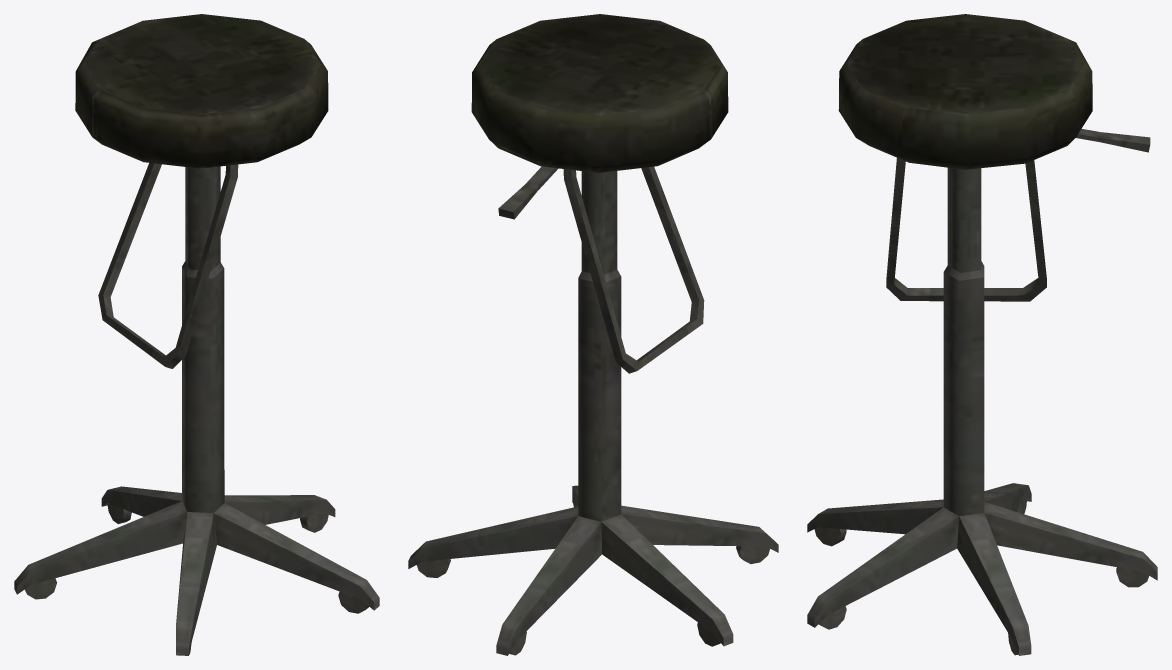
Rendered from chair_stool01a.glb.
3 views of the same model, side by side, from view 1: azimuth 30°, elevation 25°; view 2: azimuth 150°, elevation 25°; view 3: azimuth 270°, elevation 25° (orthographic).
Visible parts, largest first — view 1: 0_chair_stool01a; view 2: 0_chair_stool01a; view 3: 0_chair_stool01a.
Part boxes in pixels (box(x1,y1,x2,y2)): 0_chair_stool01a: box(14, 14, 379, 655); 0_chair_stool01a: box(408, 14, 778, 655); 0_chair_stool01a: box(807, 14, 1157, 655).
Bounding box in the file's own units: 0.5495 × 0.8568 × 0.5227.
Materials: 1 (1 with a texture image).
